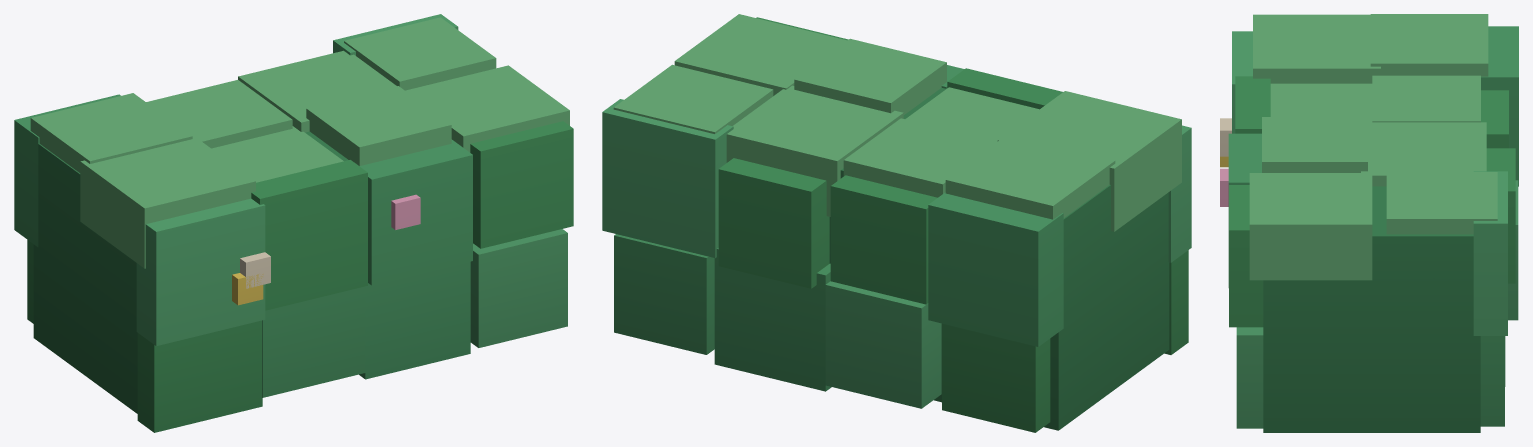
The model's file is hedge-low-2m-h0.9.glb.
3 renders of one model, left to right at view 1: azimuth 30°, elevation 25°; view 2: azimuth 150°, elevation 25°; view 3: azimuth 270°, elevation 25°, orthographic. The views are drawn at different scales.
Parts seen in each view (by area): view 1: hedge-low-2m-h0.9_body; view 2: hedge-low-2m-h0.9_body; view 3: hedge-low-2m-h0.9_body.
Part boxes in pixels (x1=…): hedge-low-2m-h0.9_body: x1=14, y1=14, x2=573, y2=432; hedge-low-2m-h0.9_body: x1=602, y1=14, x2=1191, y2=432; hedge-low-2m-h0.9_body: x1=1220, y1=14, x2=1518, y2=432.
Bounding box in the file's own units: 2.02 × 1.02 × 1.24.
